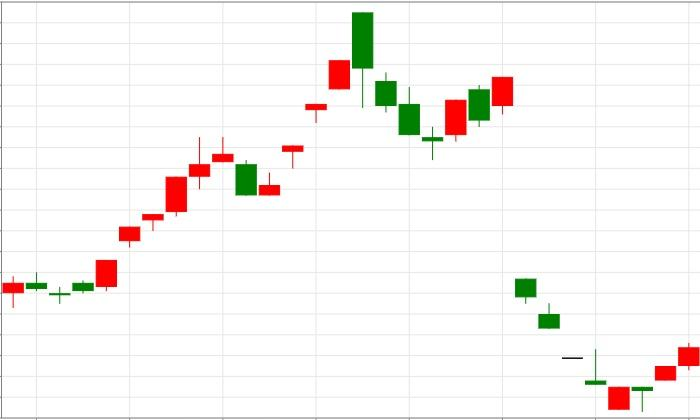three_black_crows_fall: (235, 12, 421, 197)
